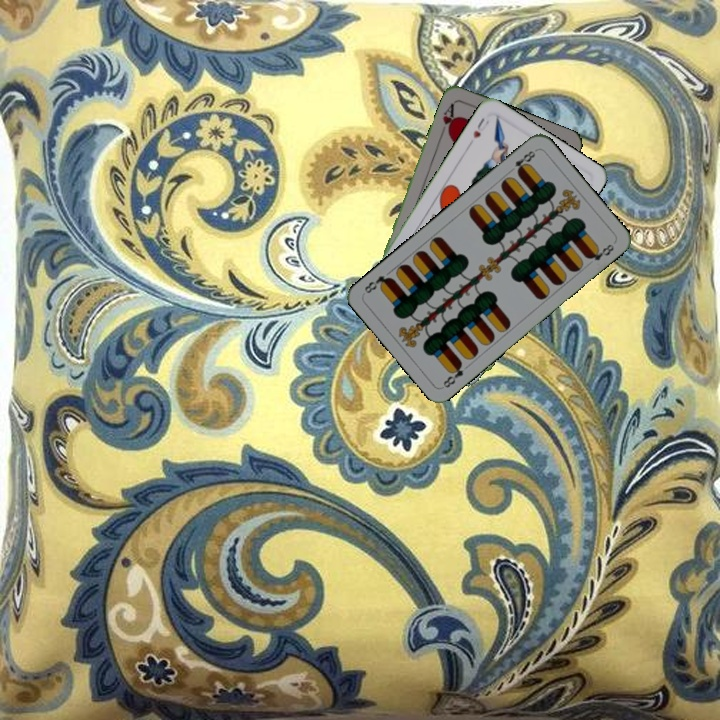E8: (510, 146, 539, 177), (439, 358, 466, 390)
HA: (437, 99, 458, 138)
HU: (469, 114, 492, 141)
